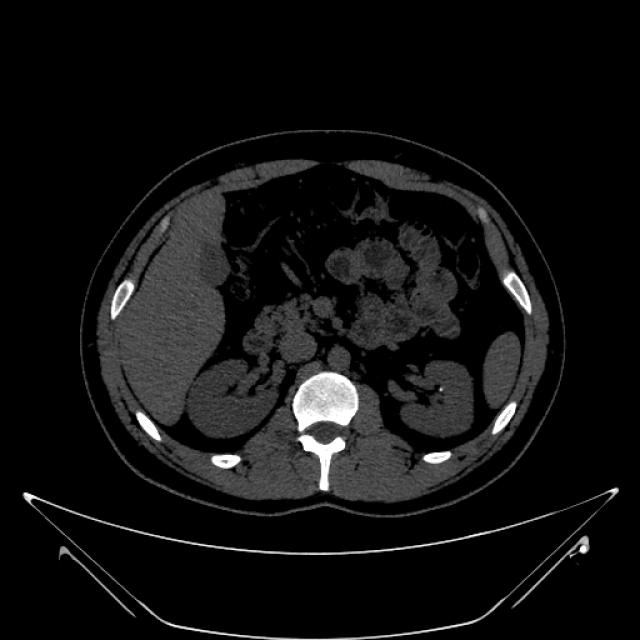kidney: (177, 350, 288, 447), (388, 348, 478, 443)
stone: (438, 384, 444, 394)
